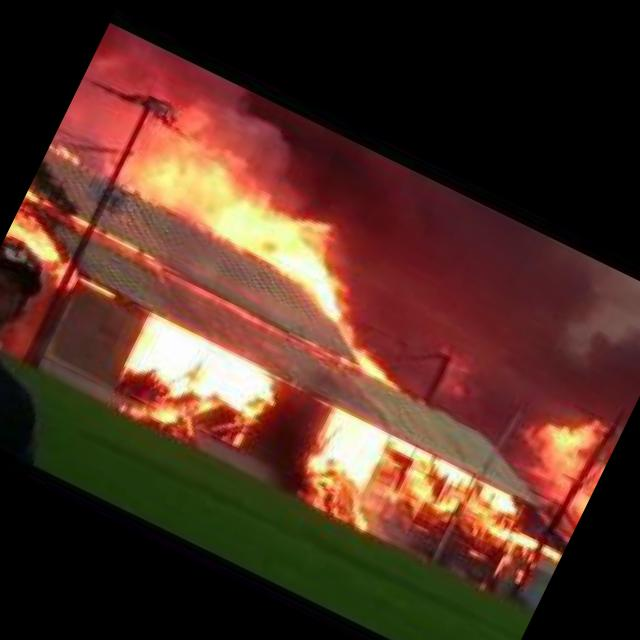fire: (34, 49, 398, 322), (288, 404, 538, 596), (103, 307, 287, 473), (488, 386, 627, 564), (348, 346, 407, 389), (48, 138, 86, 166)
